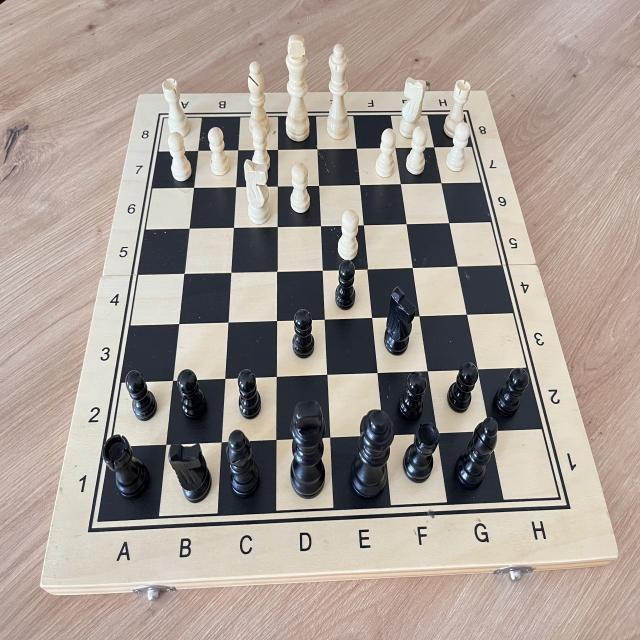black-bishop: (452, 413, 501, 496), (225, 428, 264, 502)
black-king: (288, 398, 328, 502)
black-knight: (166, 438, 215, 504), (380, 280, 420, 357)
black-pawn: (490, 366, 531, 424), (175, 364, 209, 424), (444, 359, 480, 414), (123, 367, 159, 422), (395, 368, 428, 424), (234, 366, 264, 421), (288, 306, 316, 362), (332, 257, 358, 312)
black-queen: (348, 405, 397, 502)
black-rook: (100, 430, 153, 502), (401, 418, 442, 486)
white-bishop: (243, 58, 272, 139)
white-king: (282, 30, 312, 144)
white-knight: (242, 157, 274, 226), (398, 74, 427, 142)
white-pawn: (336, 204, 361, 266), (164, 130, 193, 183), (286, 158, 312, 216), (445, 120, 472, 174), (206, 124, 231, 178), (374, 126, 397, 180), (248, 121, 272, 172), (405, 125, 428, 177)
white-queen: (325, 40, 352, 142)
white-rook: (160, 74, 192, 140), (441, 78, 473, 142)
